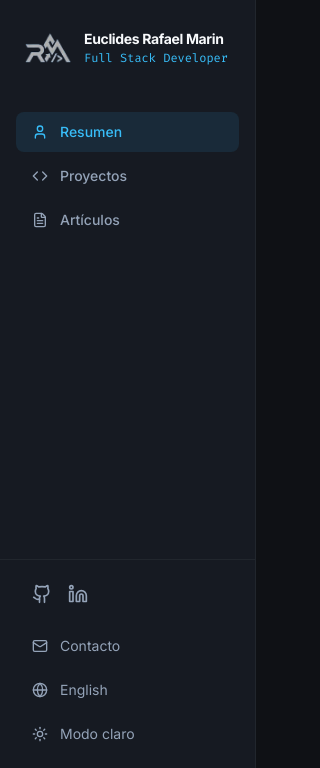
Sidebar Component › toggles language when language button is clicked
Click the button "English": (128, 690) [16,672,239,708]
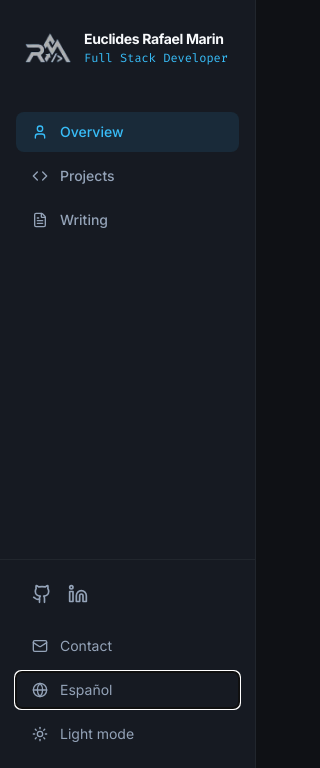
Check: the button "Español" is shown, box [16,672,239,708]
